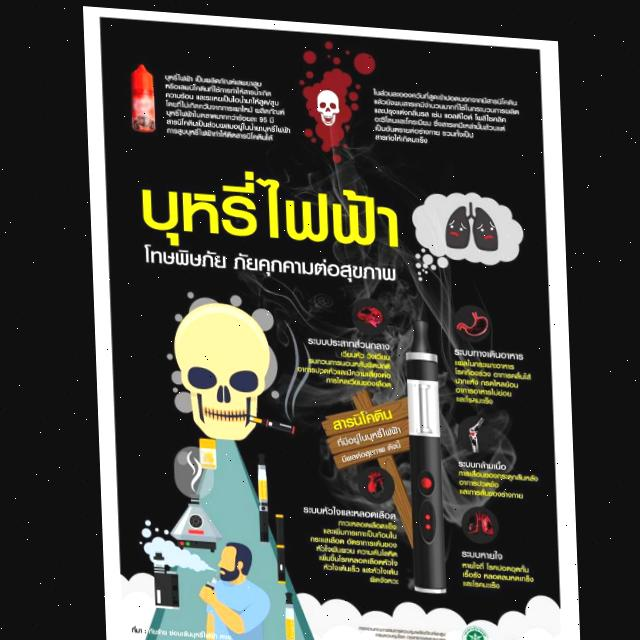vape: (401, 313, 441, 588), (147, 550, 174, 607), (253, 450, 265, 539), (245, 412, 291, 430), (271, 510, 280, 580), (280, 588, 289, 637), (201, 574, 212, 588)
